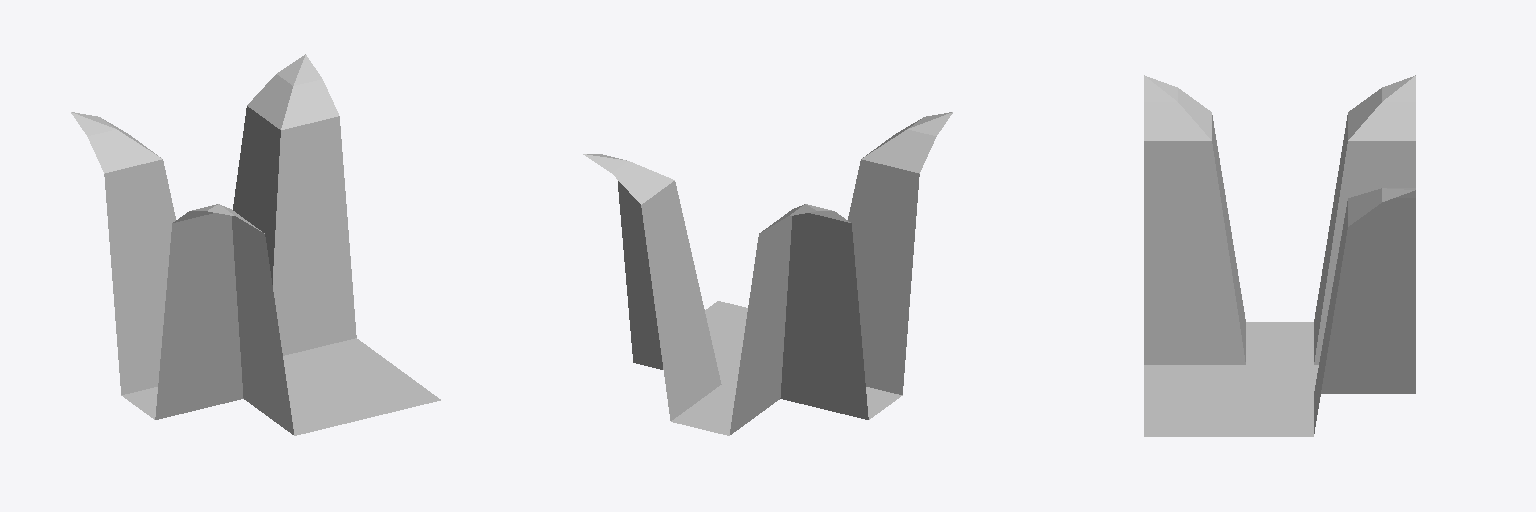
Rendered from Sand4b.obj.
The picture shows the model from 3 angles: view 1: azimuth 30°, elevation 25°; view 2: azimuth 150°, elevation 25°; view 3: azimuth 270°, elevation 25°; orthographic projection.
Visible parts, largest first — view 1: Grid_Grid.027_Grid_Grid.016; view 2: Grid_Grid.027_Grid_Grid.016; view 3: Grid_Grid.027_Grid_Grid.016.
Part boxes in pixels (left/top/right/bottom): Grid_Grid.027_Grid_Grid.016: left=71, top=54, right=440, bottom=435; Grid_Grid.027_Grid_Grid.016: left=583, top=112, right=952, bottom=435; Grid_Grid.027_Grid_Grid.016: left=1144, top=75, right=1415, bottom=436.
Bounding box in the file's own units: 1 × 1 × 1.